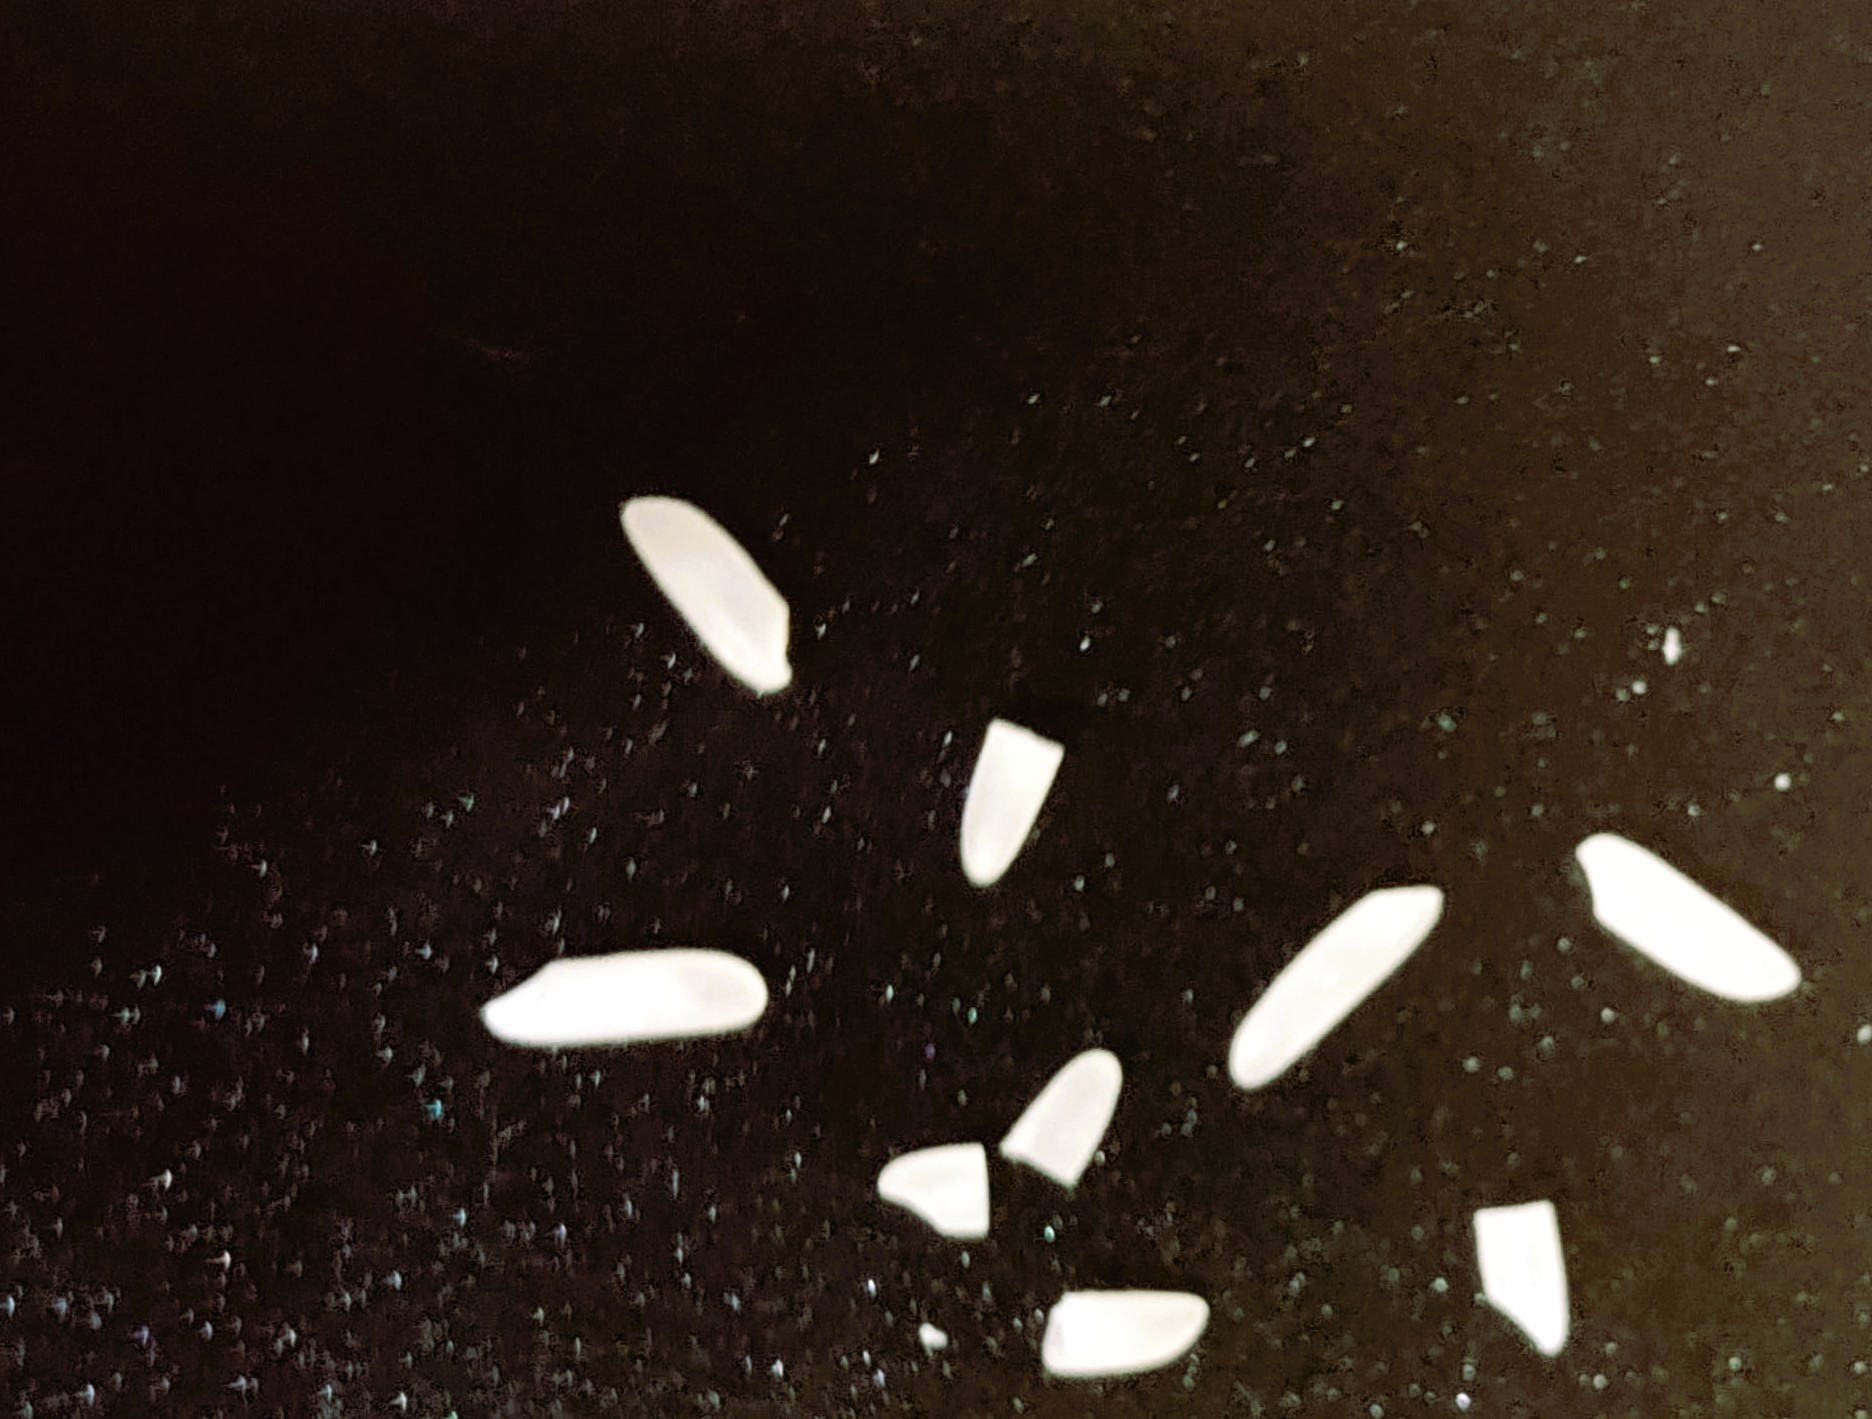broken_grain: (1034, 1275, 1230, 1401), (1465, 1190, 1600, 1364), (954, 699, 1067, 898), (994, 1037, 1124, 1206), (866, 1132, 997, 1245)
complete_grain: (1213, 870, 1454, 1106), (1566, 795, 1808, 1024), (607, 489, 831, 712), (463, 925, 784, 1071)
